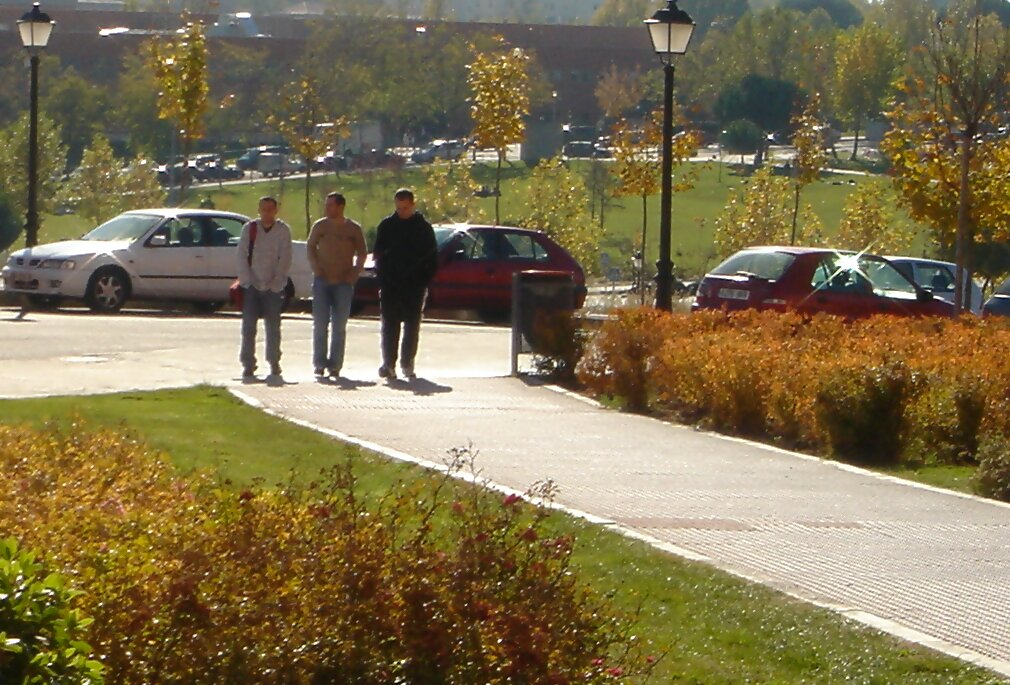person: (369, 177, 444, 393), (230, 192, 303, 391), (308, 188, 367, 390)
